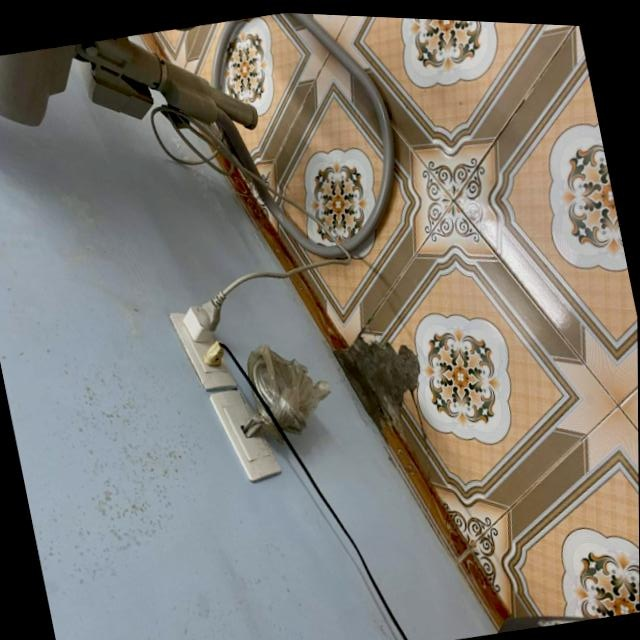outlet: (208, 383, 284, 490), (167, 301, 239, 398)
